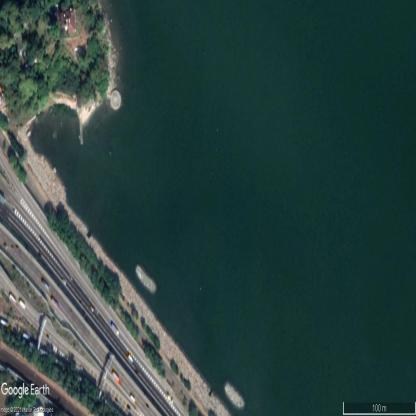ship: (133, 264, 158, 298), (224, 380, 244, 411)
